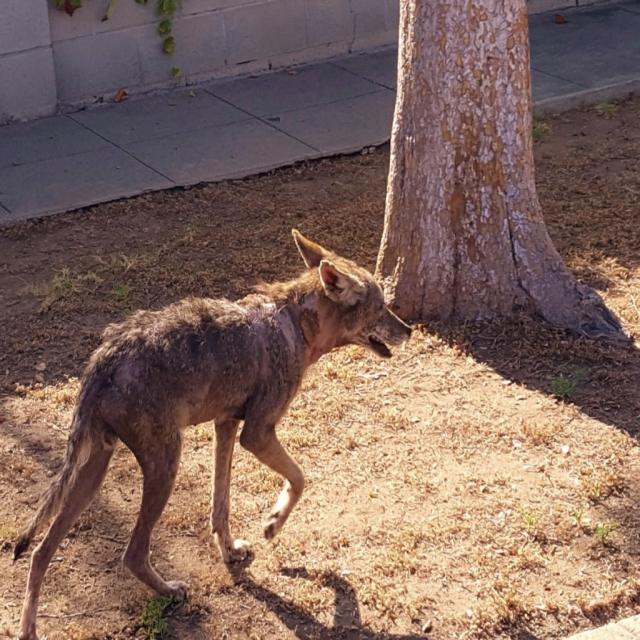coyote: (12, 229, 411, 639)
